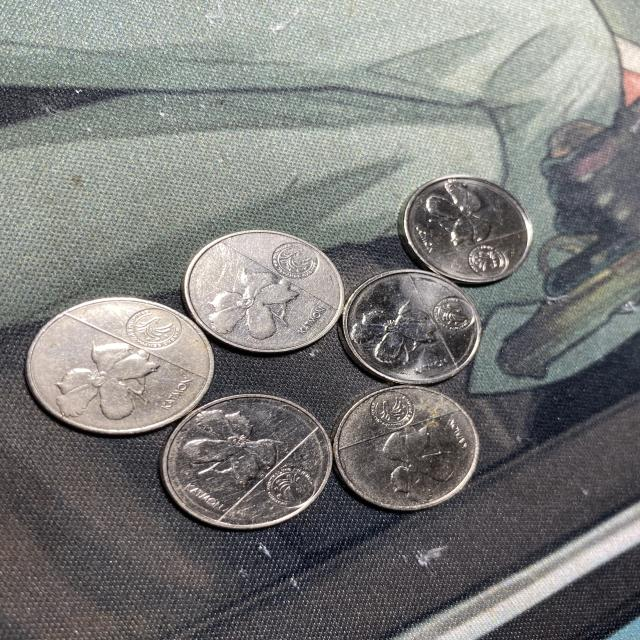25Cent_New_Back: (28, 332, 184, 431), (168, 393, 288, 498), (412, 176, 531, 280), (347, 292, 451, 381), (379, 427, 485, 511), (190, 270, 296, 349)
